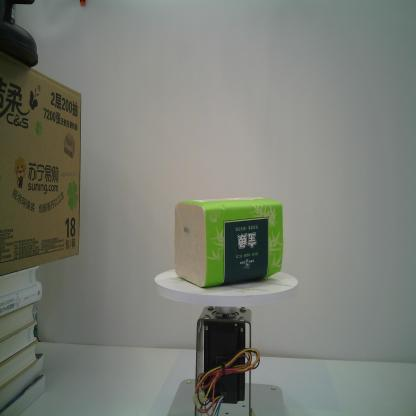Tissue: (173, 197, 285, 289)
